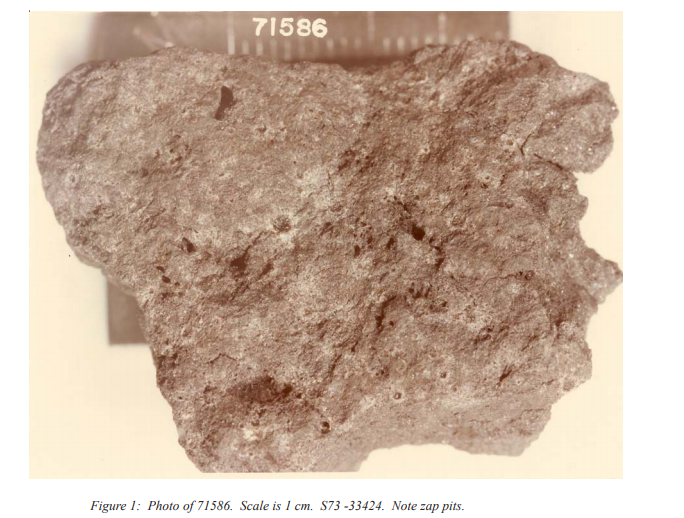Basalt: (59, 47, 607, 473), (67, 104, 570, 418), (166, 175, 531, 407)
